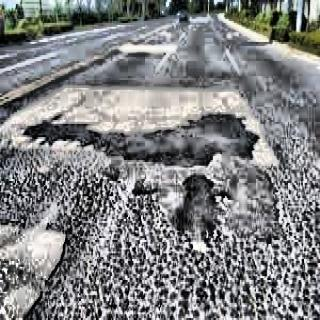pothole: (28, 102, 266, 172), (0, 213, 75, 320)
